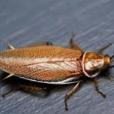cockroach: (0, 42, 112, 88)
